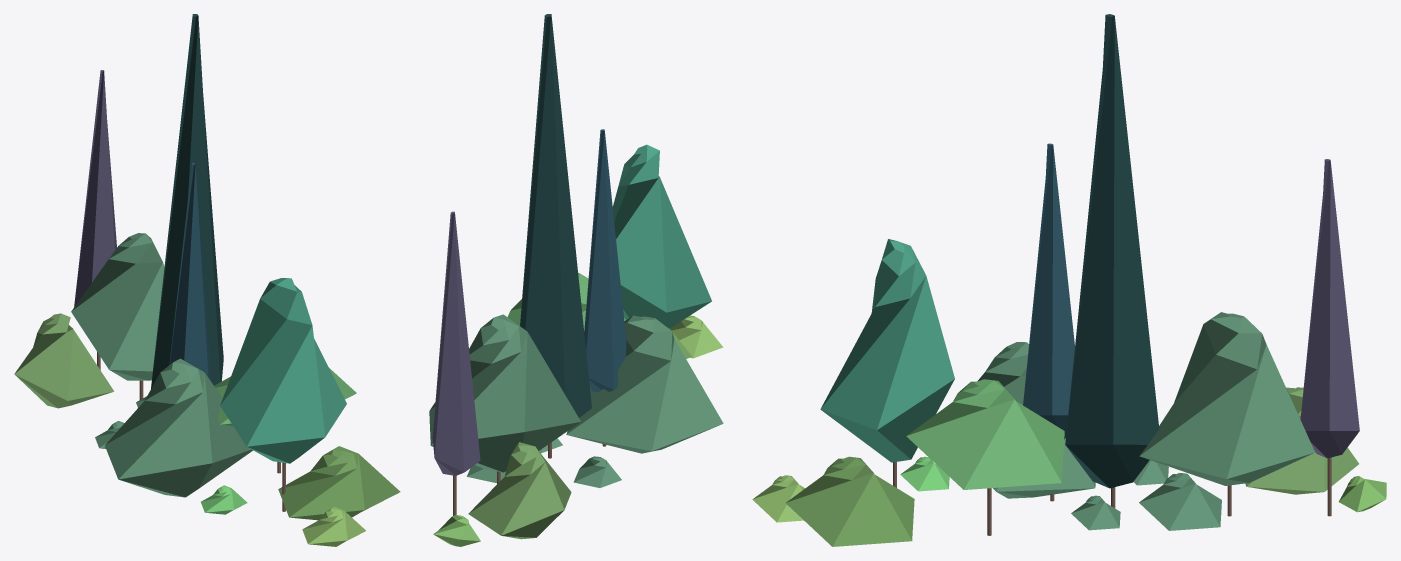
Rendered from Trees Set.fbx.
The picture shows the model from 3 angles, left to right: view 1: azimuth 30°, elevation 25°; view 2: azimuth 150°, elevation 25°; view 3: azimuth 270°, elevation 25°; orthographic projection. The views are drawn at different scales.
Visible parts, largest first — view 1: pCylinder11, pCylinder15, pCylinder1, pCylinder3, pCylinder18, pCylinder7, pCylinder9, pCylinder5, pCylinder14, pCylinder21, pCylinder13; view 2: pCylinder1, pCylinder15, pCylinder11, pCylinder3, pCylinder9, pCylinder5, pCylinder18, pCylinder14, pCylinder20, pCylinder16, pCylinder13, pCylinder17; view 3: pCylinder1, pCylinder3, pCylinder11, pCylinder13, pCylinder9, pCylinder5, pCylinder7, pCylinder15, pCylinder17, pCylinder18, pCylinder14, pCylinder16 (+2 smaller).
Part boxes in pixels (x1,y1,x2,y2): pCylinder11: (220,278,346,463); pCylinder15: (105,358,252,497); pCylinder1: (151,14,223,388); pCylinder3: (71,233,164,380); pCylinder18: (14,313,114,408); pCylinder7: (278,446,400,520); pCylinder9: (74,70,116,307); pCylinder5: (169,163,211,381); pCylinder14: (302,507,365,546); pCylinder21: (201,485,247,514); pCylinder13: (214,368,356,425); pCylinder1: (520,14,591,417); pCylinder15: (566,315,723,453); pCylinder11: (612,144,711,328); pCylinder3: (429,314,580,472); pCylinder9: (432,211,480,475); pCylinder5: (584,129,626,392); pCylinder18: (468,442,571,539); pCylinder14: (670,315,723,358); pCylinder20: (573,456,621,487); pCylinder16: (433,515,480,546); pCylinder13: (507,272,625,330); pCylinder17: (466,465,505,483); pCylinder1: (1065,14,1159,488); pCylinder3: (1139,312,1314,485); pCylinder11: (820,239,954,462); pCylinder13: (906,379,1064,489); pCylinder9: (1300,159,1359,458); pCylinder5: (1023,143,1074,439); pCylinder7: (786,456,914,546); pCylinder15: (977,342,1095,498); pCylinder17: (1139,473,1221,530); pCylinder18: (1245,387,1358,494); pCylinder14: (752,475,804,522); pCylinder16: (1339,476,1386,512).
Bounding box in the file's own units: 5.99 × 11.13 × 12.59.
